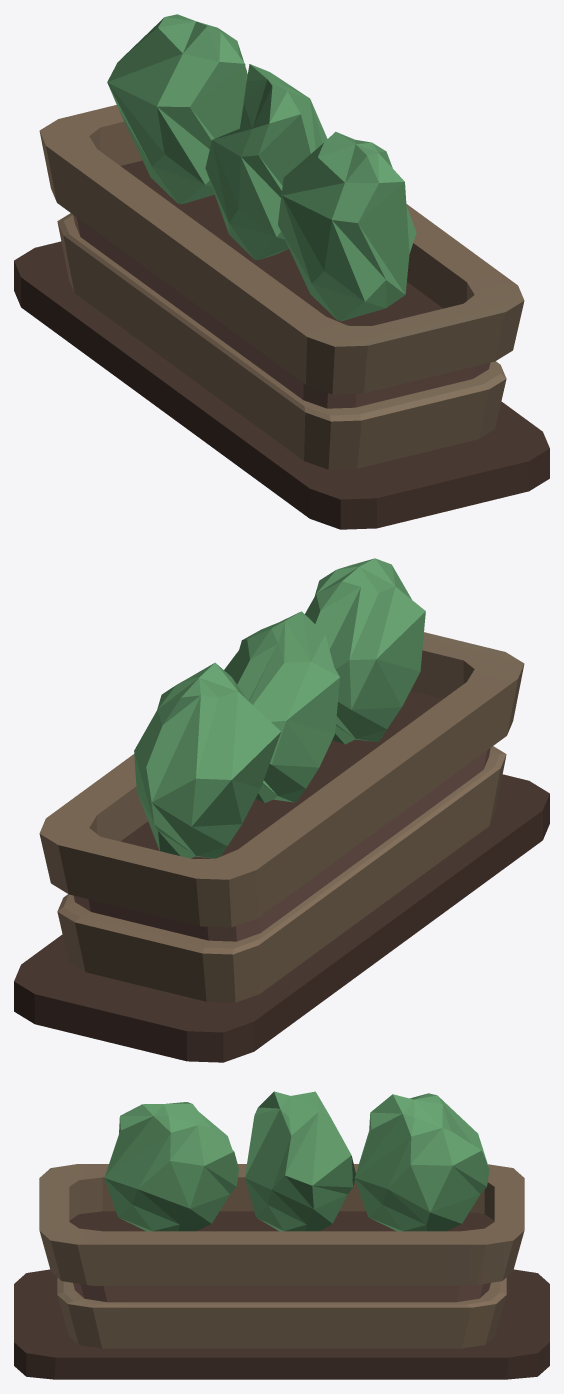
File: Bush_05.fbx
The picture shows the model from 3 angles, top to bottom: view 1: azimuth 30°, elevation 25°; view 2: azimuth 150°, elevation 25°; view 3: azimuth 270°, elevation 25°; orthographic projection. The views are drawn at different scales.
Visible parts, largest first — view 1: Bush_01.003; view 2: Bush_01.003; view 3: Bush_01.003.
Part boxes in pixels (bbox=[...]): Bush_01.003: bbox=[14, 14, 549, 529]; Bush_01.003: bbox=[14, 558, 549, 1062]; Bush_01.003: bbox=[14, 1091, 549, 1379].
Size of the model in its own units: 172 by 216 by 436.
